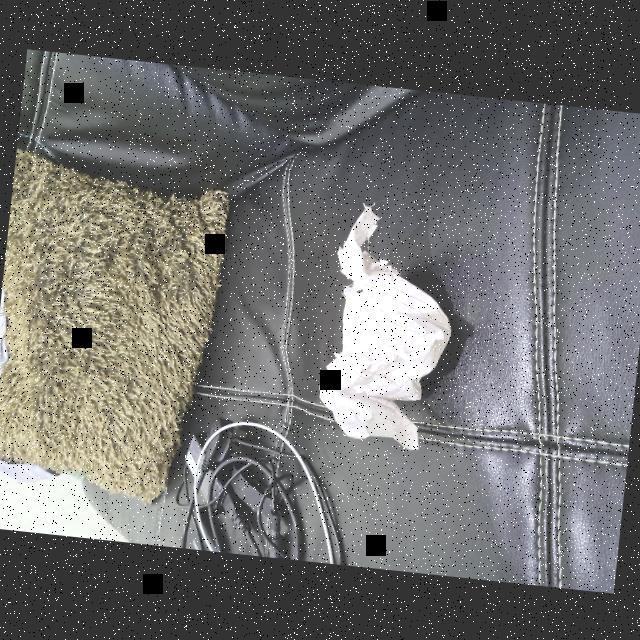scrap_paper: (312, 209, 462, 449)
